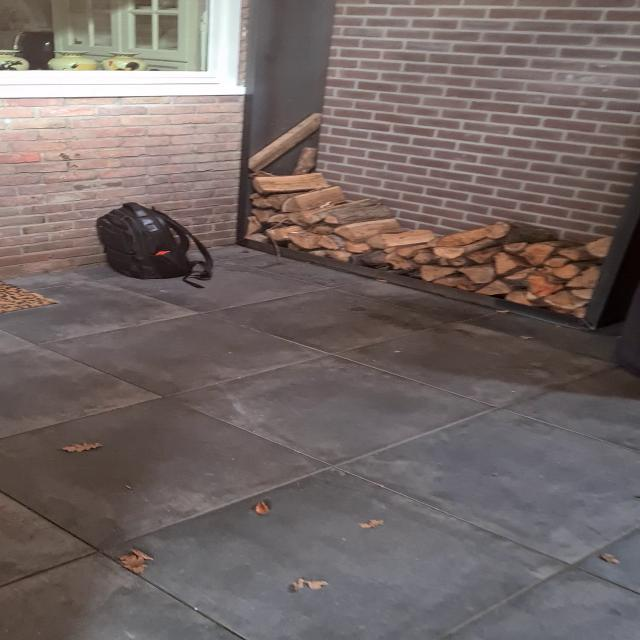backpack: (92, 199, 204, 284)
